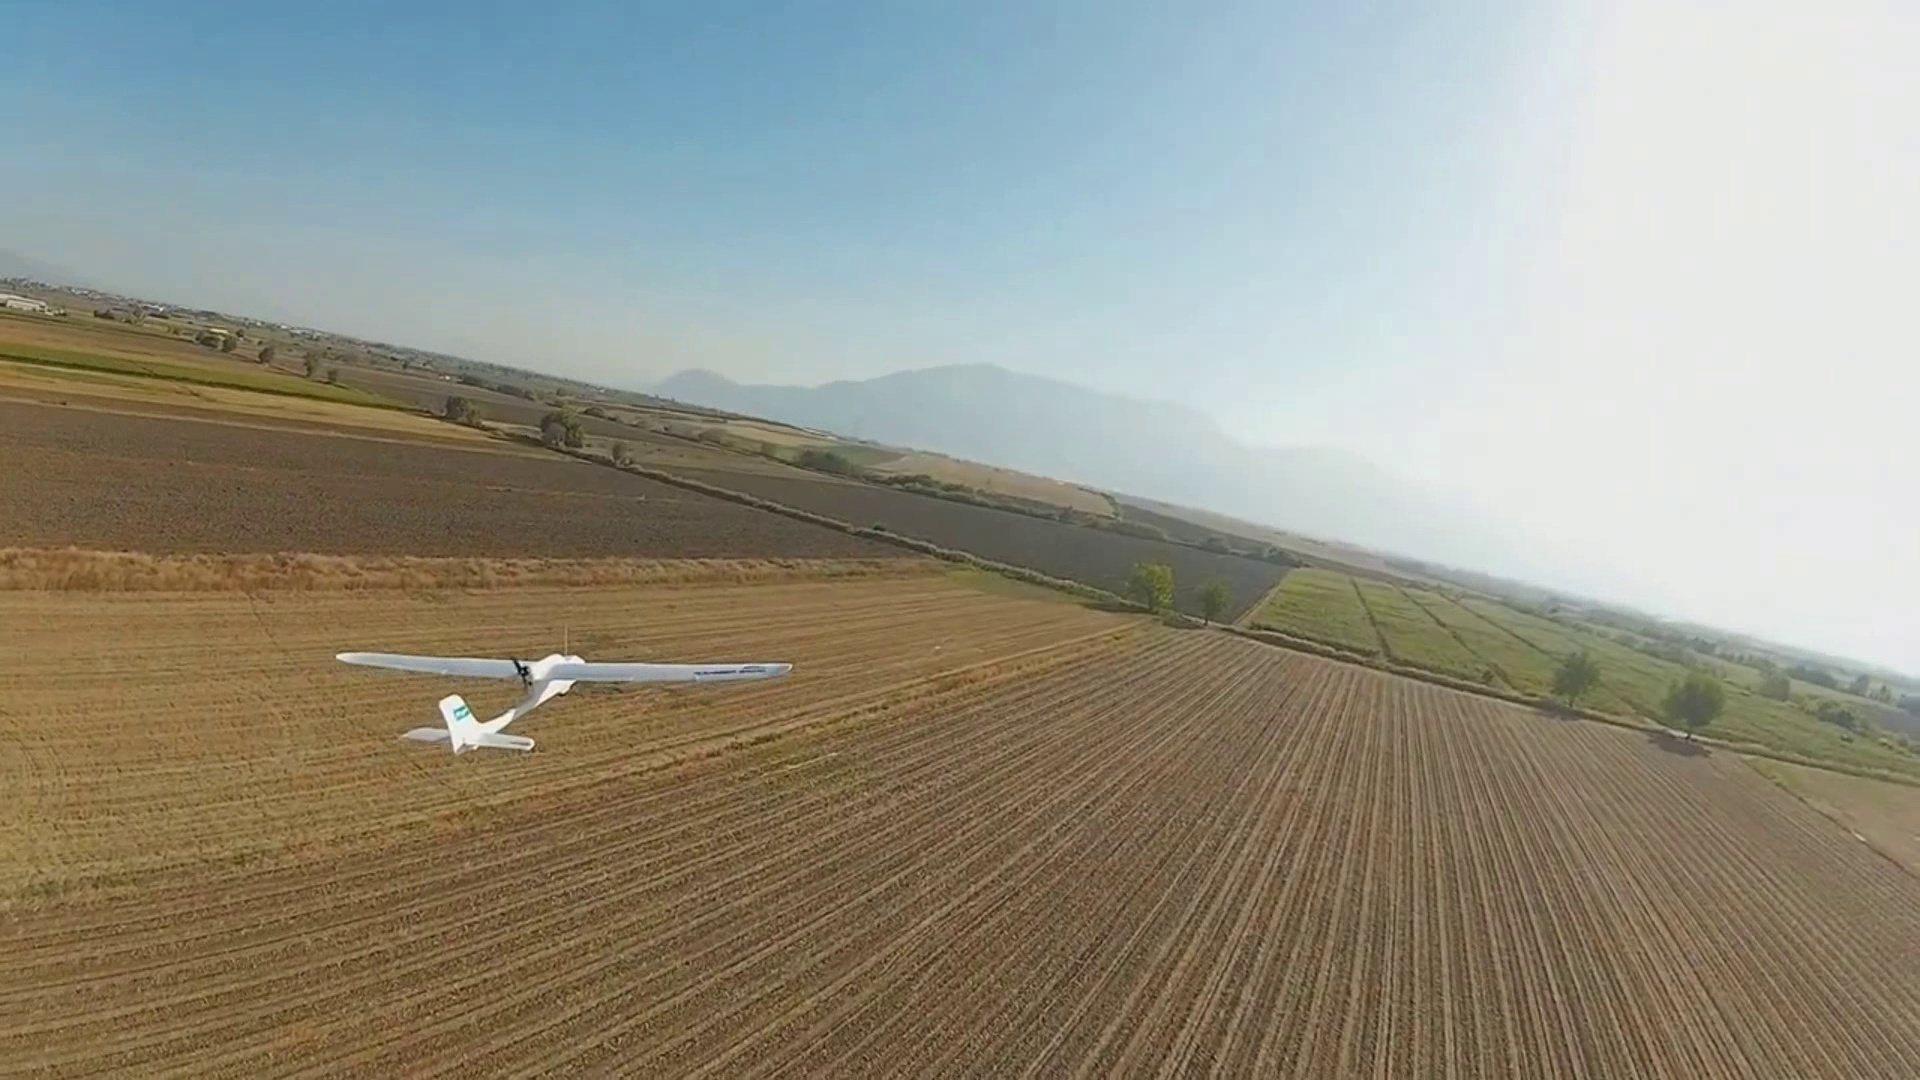airplane: (338, 641, 791, 757)
